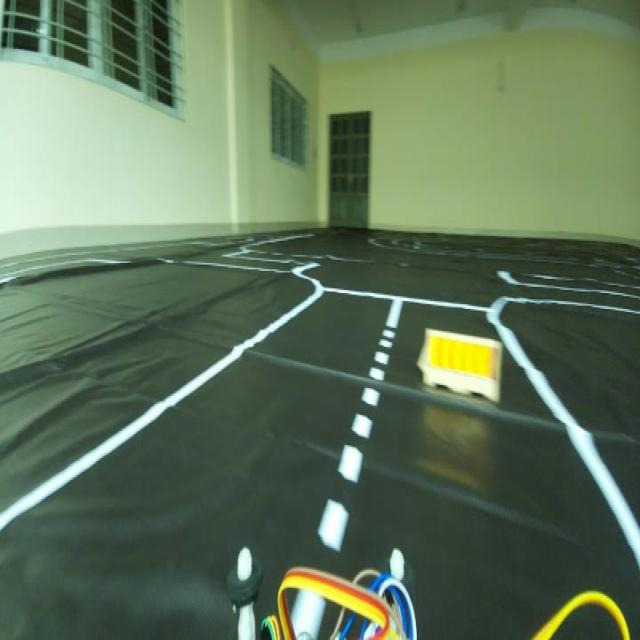roadblock: (414, 320, 510, 418)
